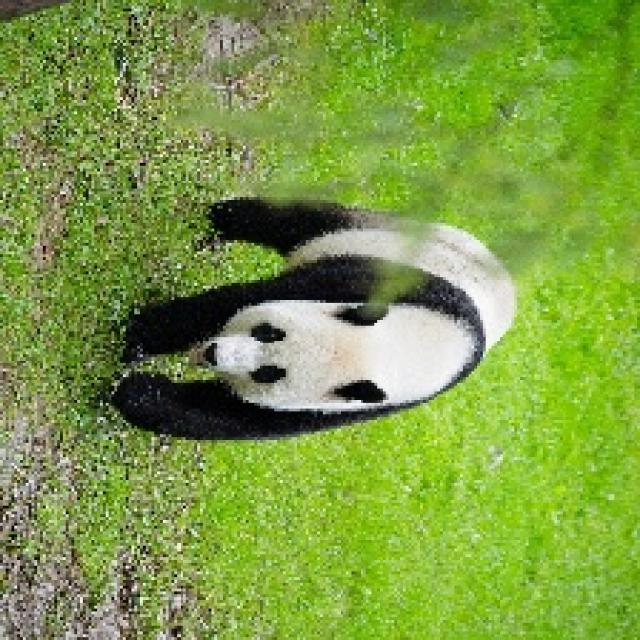bear: (116, 135, 526, 519)
